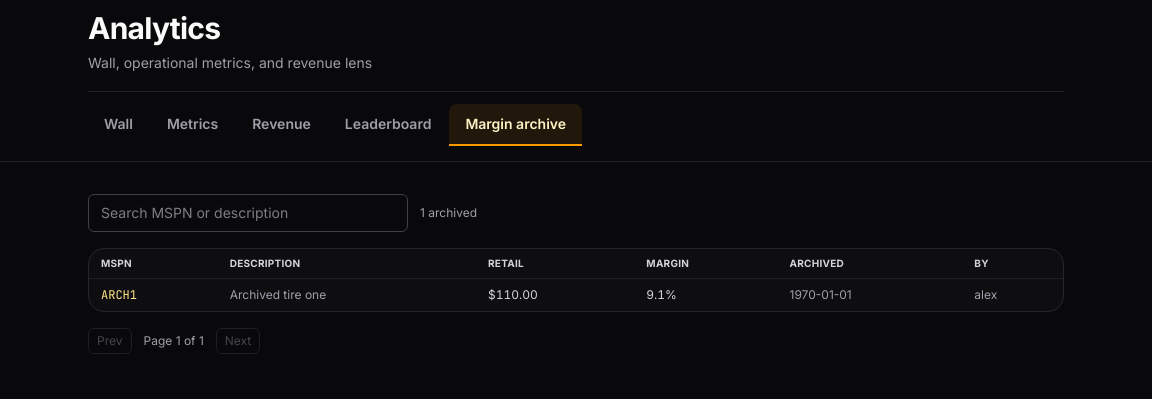
Scenario: AnalyticsPage oversight tabs › renders margin-archive tab with search filter for admins
Expected: the text "ARCH1" is shown, [89,279,218,311]
In the search field with placeholder "Search MSPN or description": coordinates (248, 213) [88,194,408,232], type "zzzz"
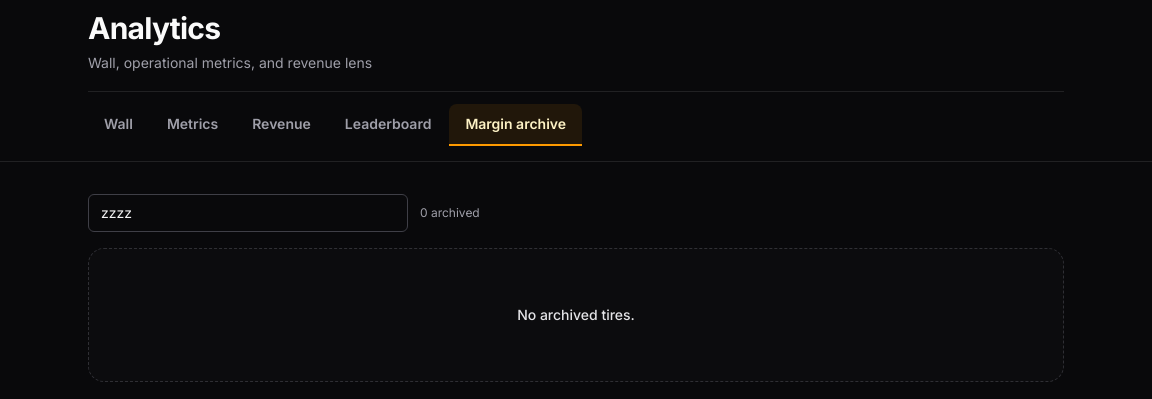
Now the text "ARCH1" is gone
Now the text "No archived tires." is shown, box [517,305,635,325]
